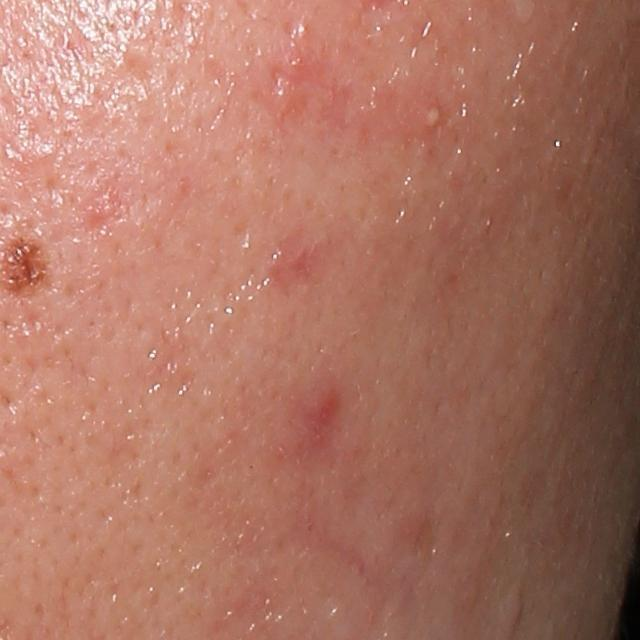papule: (308, 380, 345, 429)
pustule: (417, 98, 449, 131)
